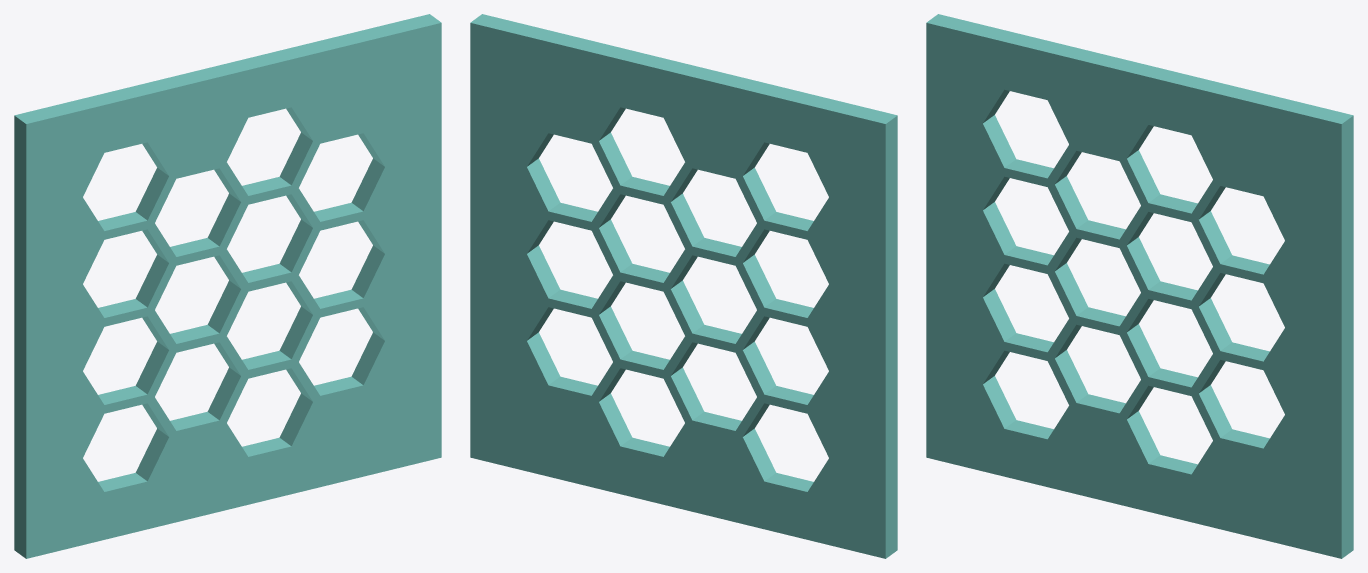
File: honeycomb_panel_demo.glb
3 views of the same model, side by side, from view 1: azimuth 30°, elevation 25°; view 2: azimuth 150°, elevation 25°; view 3: azimuth 330°, elevation 25° (orthographic).
Visible parts, largest first — view 1: honeycomb_panel; view 2: honeycomb_panel; view 3: honeycomb_panel.
Boxes of the visible parts, x1,y1,x2,y2 form: honeycomb_panel: (14,14,441,558); honeycomb_panel: (470,14,897,558); honeycomb_panel: (926,14,1353,558).
Size of the model in its own units: 60 by 60 by 3.
